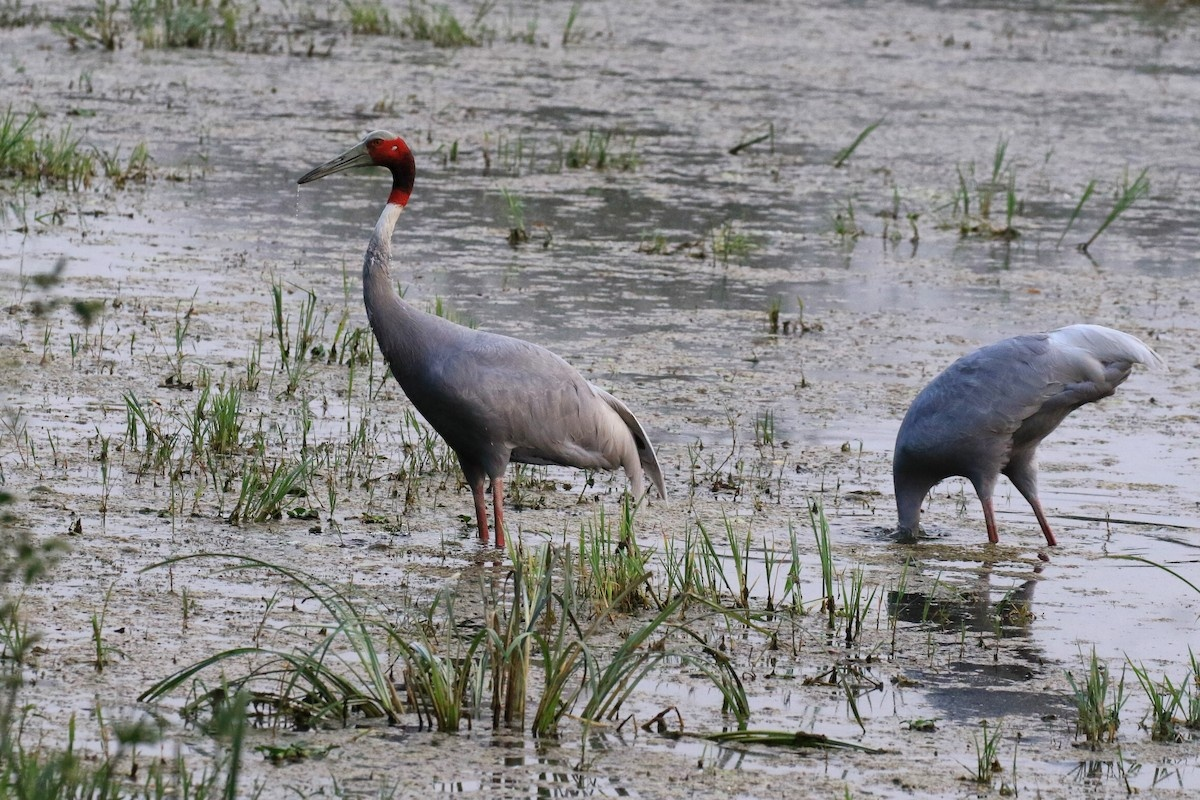crane: (296, 127, 674, 567)
